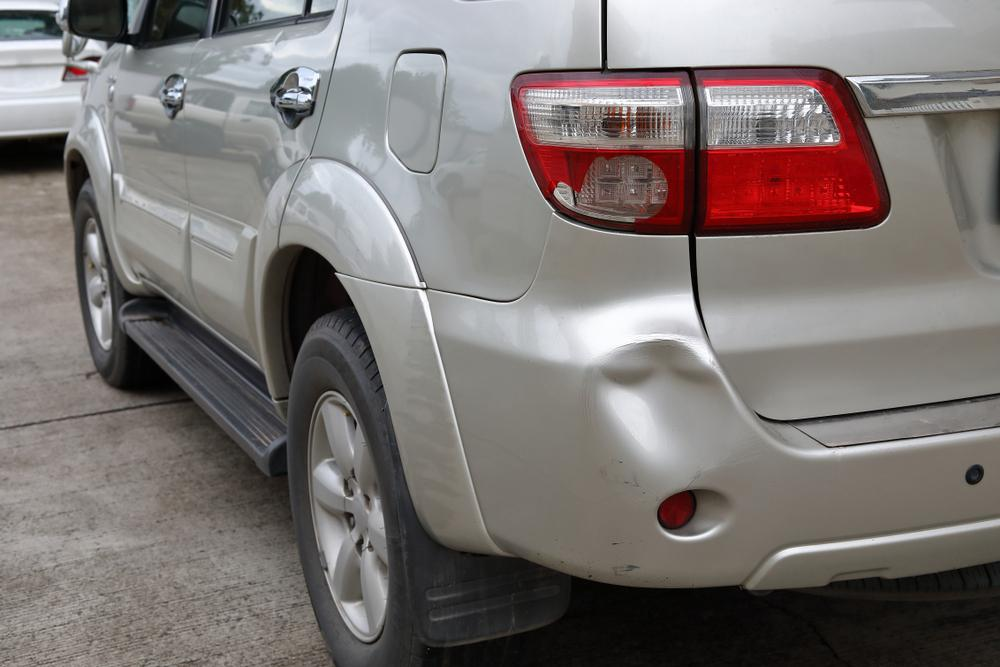dent: (598, 336, 737, 474)
lamp broken: (512, 69, 698, 234)
